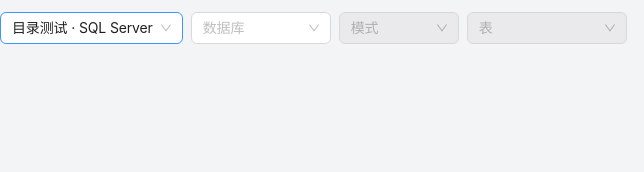
it: 握手更新连接状态后仍显示迟到的数据库列表
Press the mouse on the dropdown named "数据库" at (252, 28), box x1=203 y1=13 x2=301 y2=43
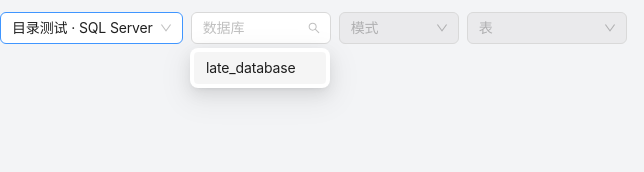
Now the text "late_database" is shown, box x1=206 y1=59 x2=296 y2=76
